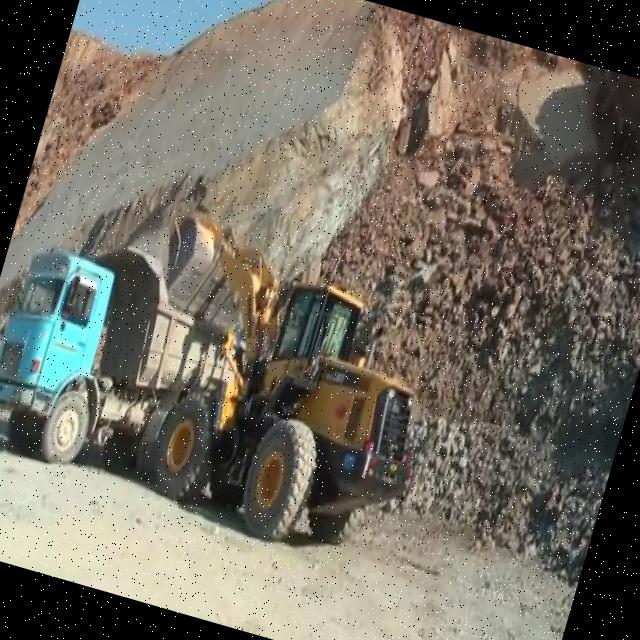Dump Truck: (0, 215, 270, 506)
Loader: (87, 204, 468, 575)
